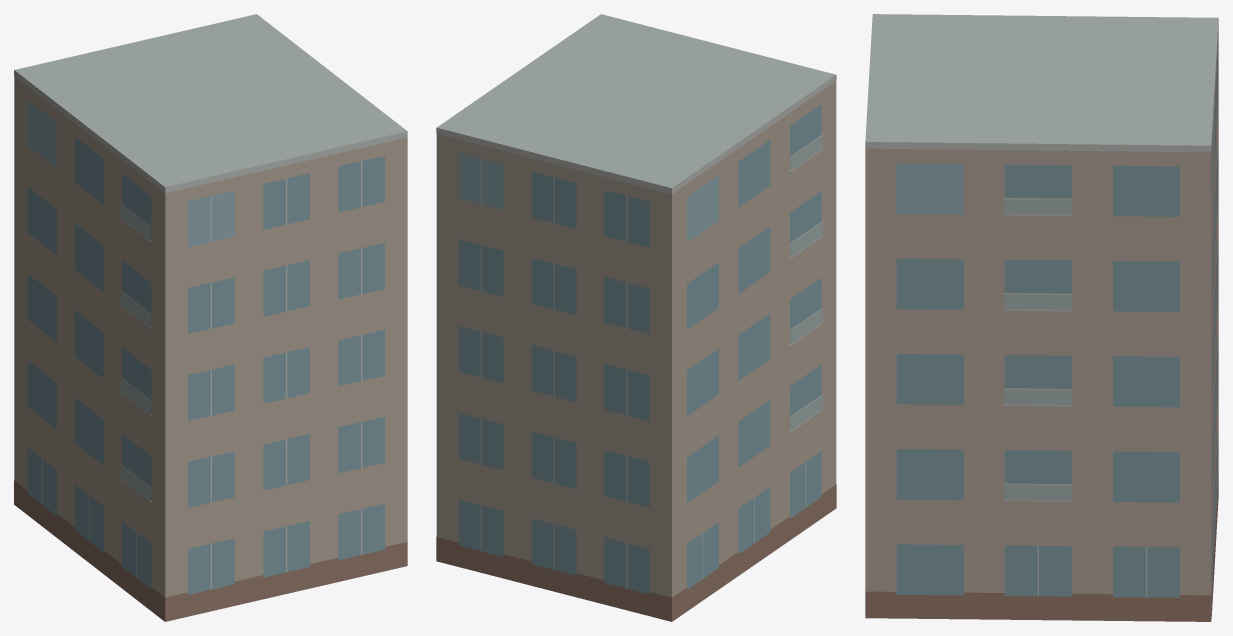
The model's file is survey-upis-32725778.glb.
3 renders of one model, left to right at view 1: azimuth 30°, elevation 25°; view 2: azimuth 150°, elevation 25°; view 3: azimuth 270°, elevation 25°, orthographic. The views are drawn at different scales.
Visible parts, largest first — view 1: survey-upis-32725778.tmp; view 2: survey-upis-32725778.tmp; view 3: survey-upis-32725778.tmp.
Part boxes in pixels (x1,y1,x2,y2): survey-upis-32725778.tmp: (14, 14, 407, 621); survey-upis-32725778.tmp: (436, 14, 836, 621); survey-upis-32725778.tmp: (865, 14, 1218, 621).
Size of the model in its own units: 10.3 by 17.34 by 11.67.
